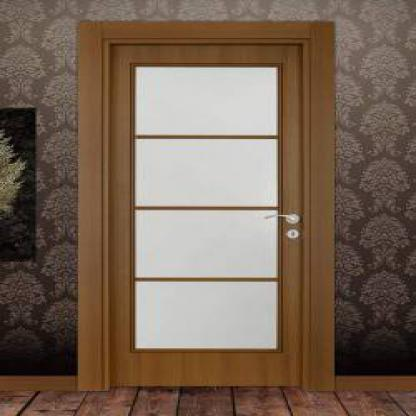door: (106, 42, 303, 392)
